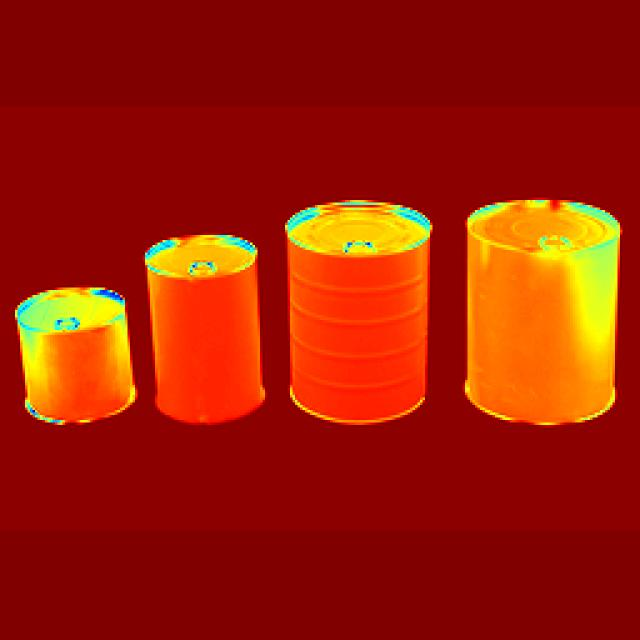Aluminium Food Cans: (451, 195, 638, 469), (279, 191, 451, 423), (144, 226, 270, 430), (12, 286, 138, 439)
